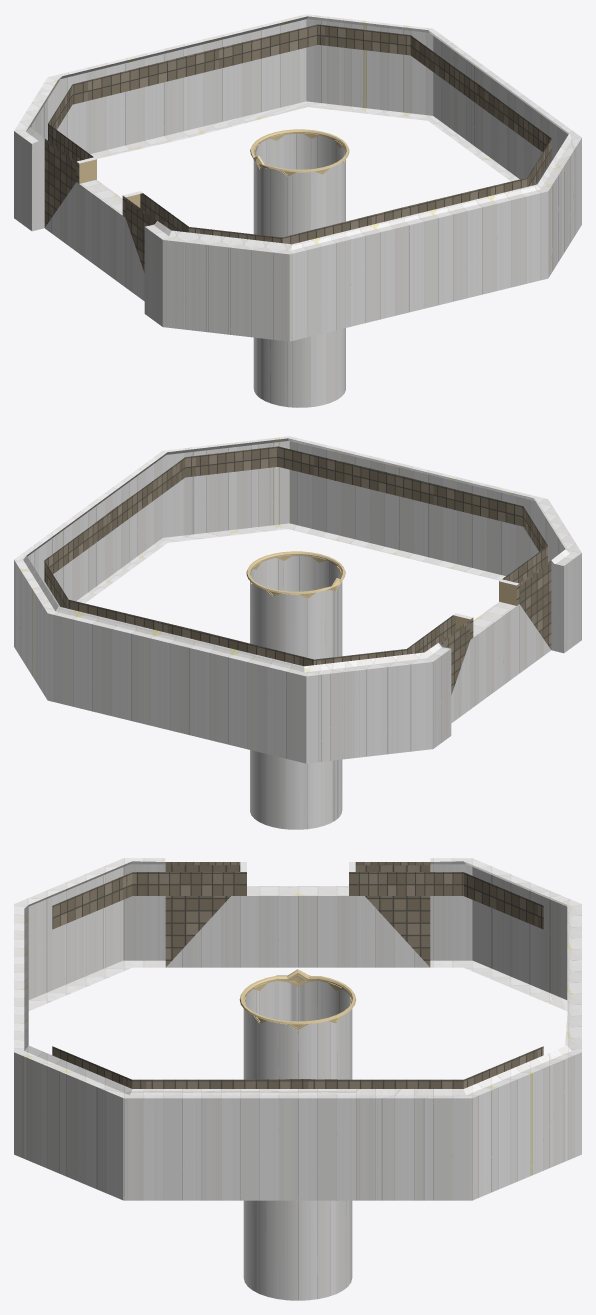
Rendered from LowerWall.fbx.
3 renders of one model, top to bottom at view 1: azimuth 30°, elevation 25°; view 2: azimuth 150°, elevation 25°; view 3: azimuth 270°, elevation 25°, orthographic. The views are drawn at different scales.
Visible parts, largest first — view 1: LowerWall1, LowerWall3, LowerWall2, LowerWall4, StairwayHole; view 2: LowerWall4, LowerWall2, LowerWall3, LowerWall1, StairwayHole; view 3: LowerWall2, LowerWall3, LowerWall4, LowerWall1, StairwayHole.
Part boxes in pixels (<box>): LowerWall1: <box>101,191,418,341</box>; LowerWall3: <box>177,14,507,172</box>; LowerWall2: <box>404,82,581,309</box>; LowerWall4: <box>14,45,195,269</box>; StairwayHole: <box>250,129,349,407</box>; LowerWall4: <box>177,613,494,763</box>; LowerWall2: <box>88,436,418,594</box>; LowerWall3: <box>14,504,191,731</box>; LowerWall1: <box>400,467,581,691</box>; StairwayHole: <box>246,551,345,829</box>; LowerWall2: <box>14,975,297,1200</box>; LowerWall3: <box>298,975,581,1200</box>; LowerWall4: <box>298,858,581,1045</box>; LowerWall1: <box>14,858,297,1010</box>; StairwayHole: <box>239,969,356,1300</box>.
Bounding box in the file's own units: 3707 × 2180 × 3707.
